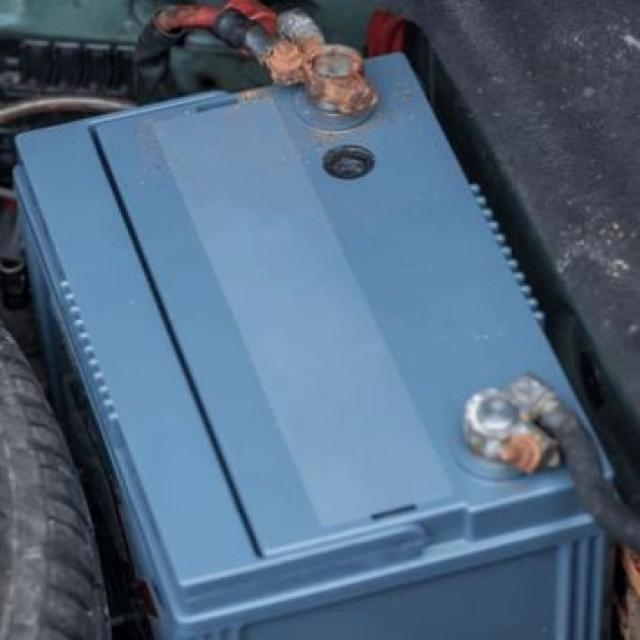electronic: (9, 95, 631, 635)
